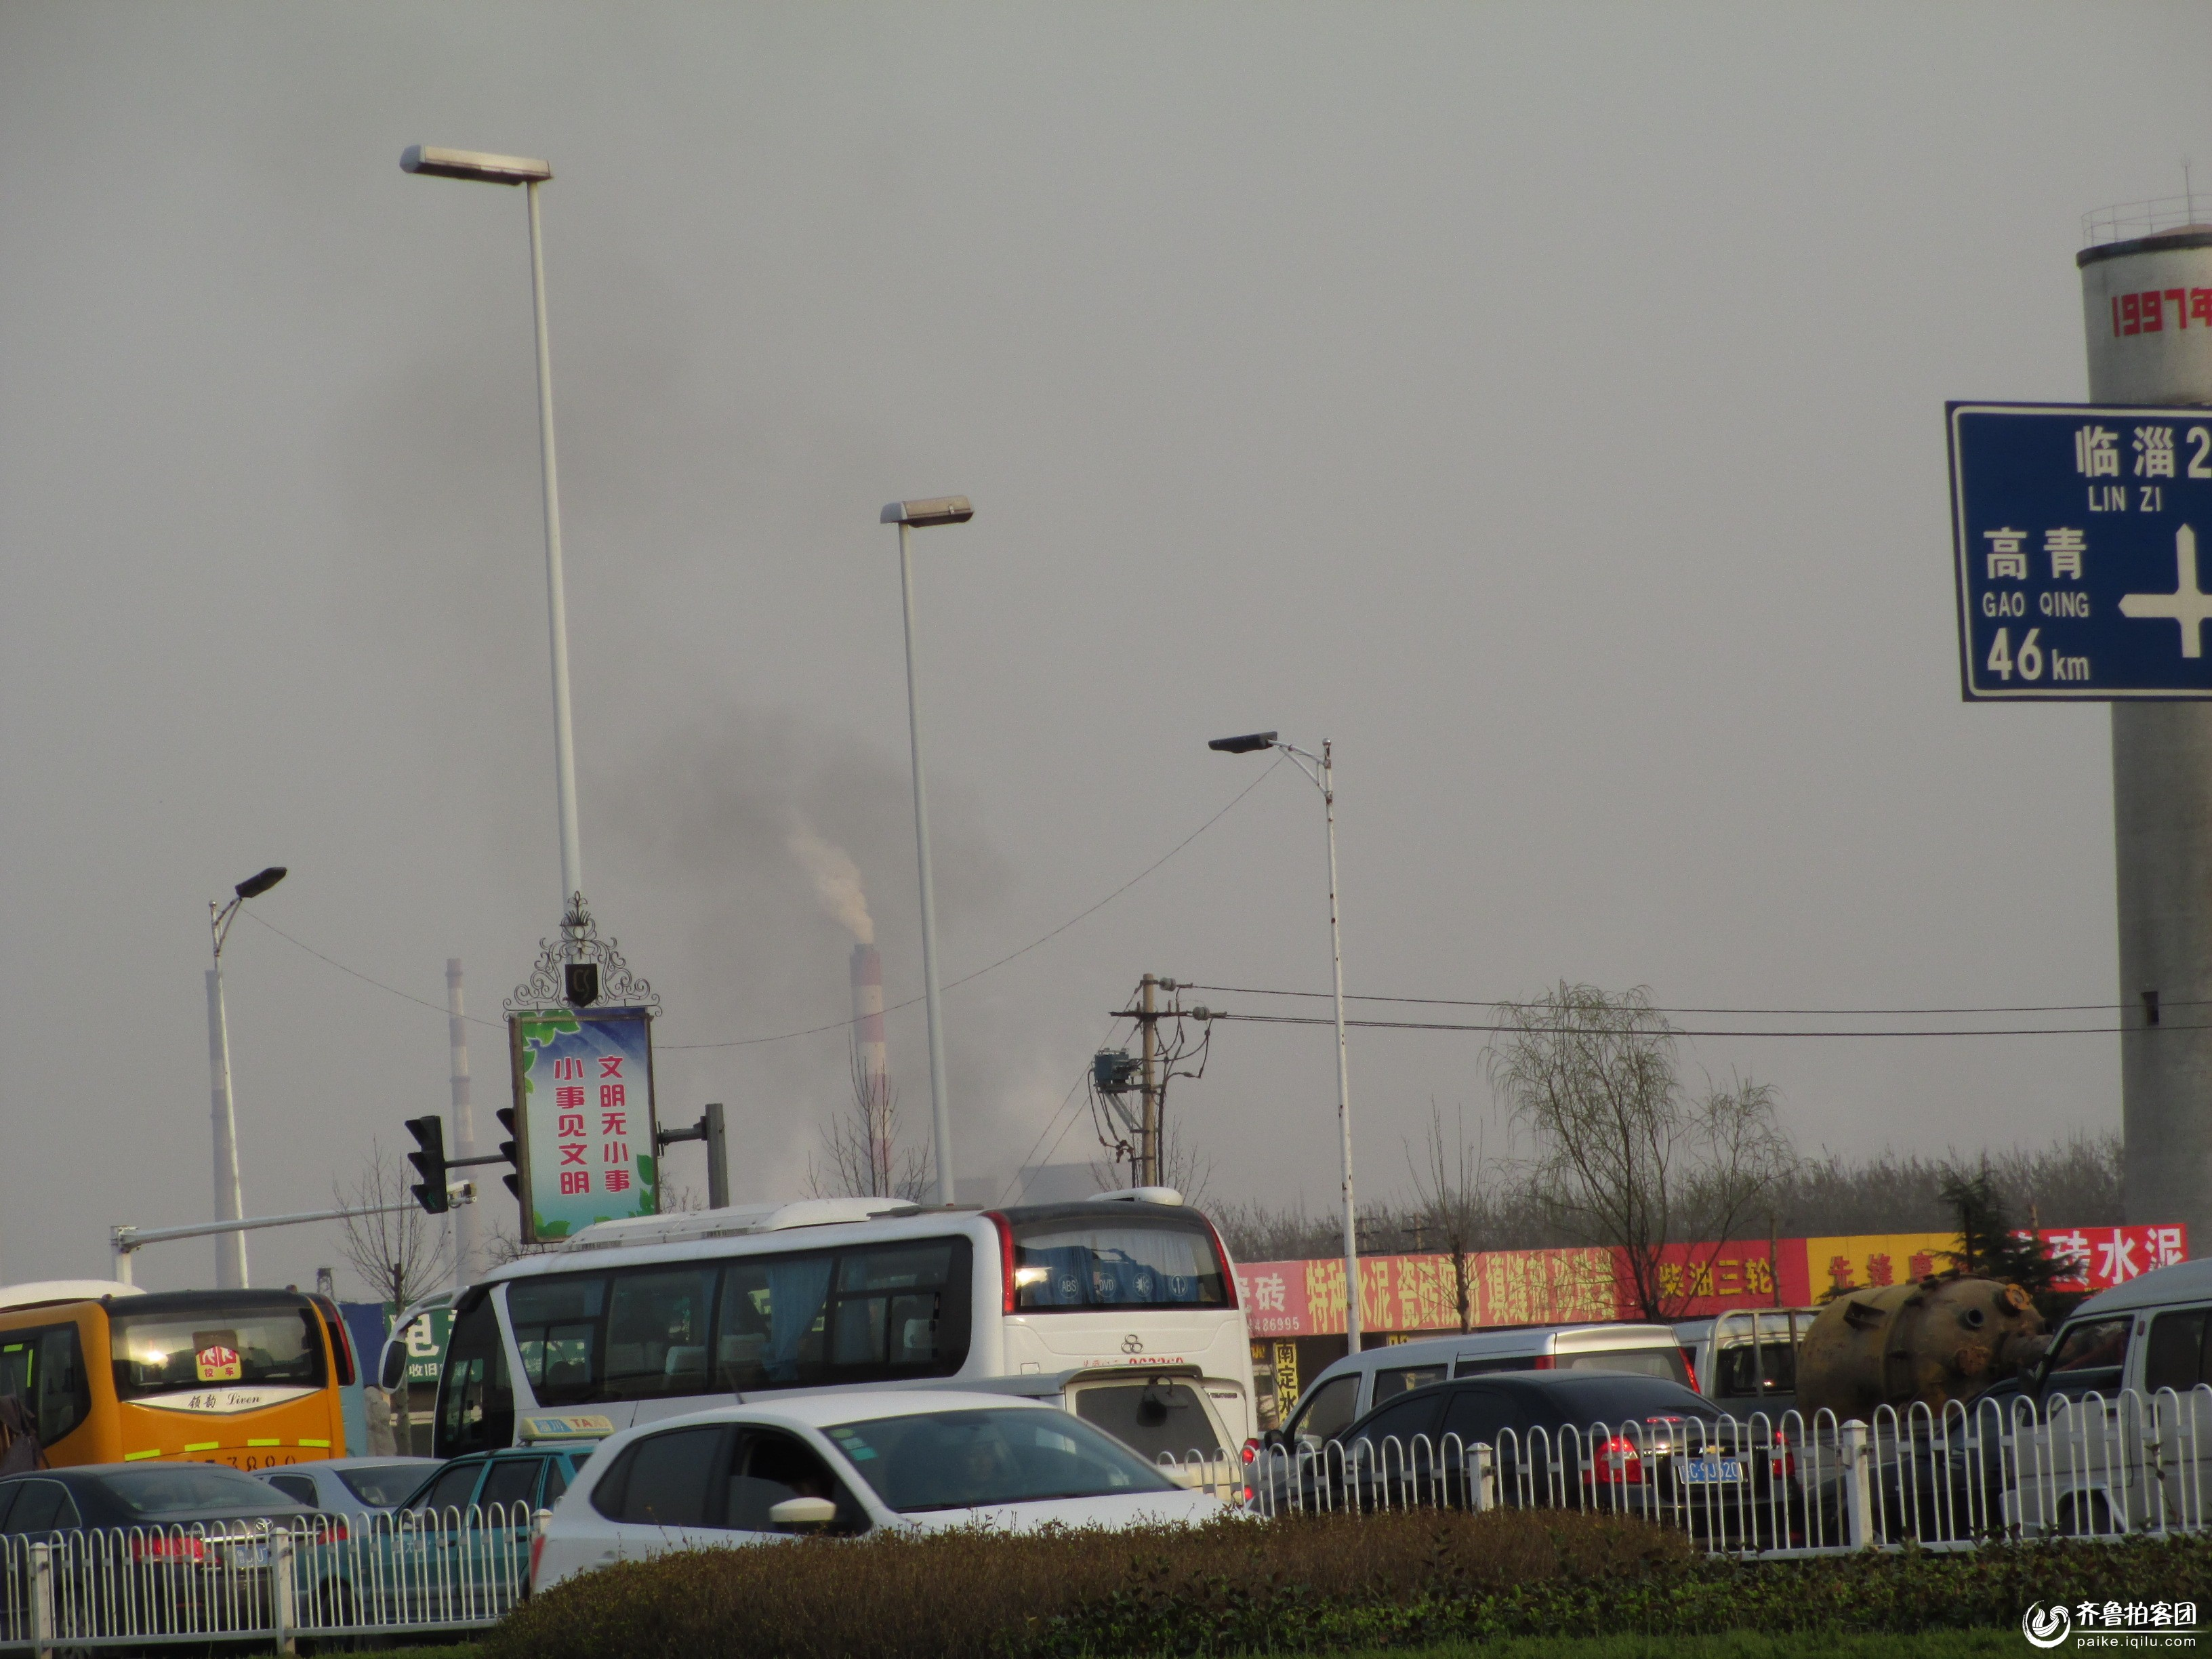dust: (747, 770, 911, 955)
